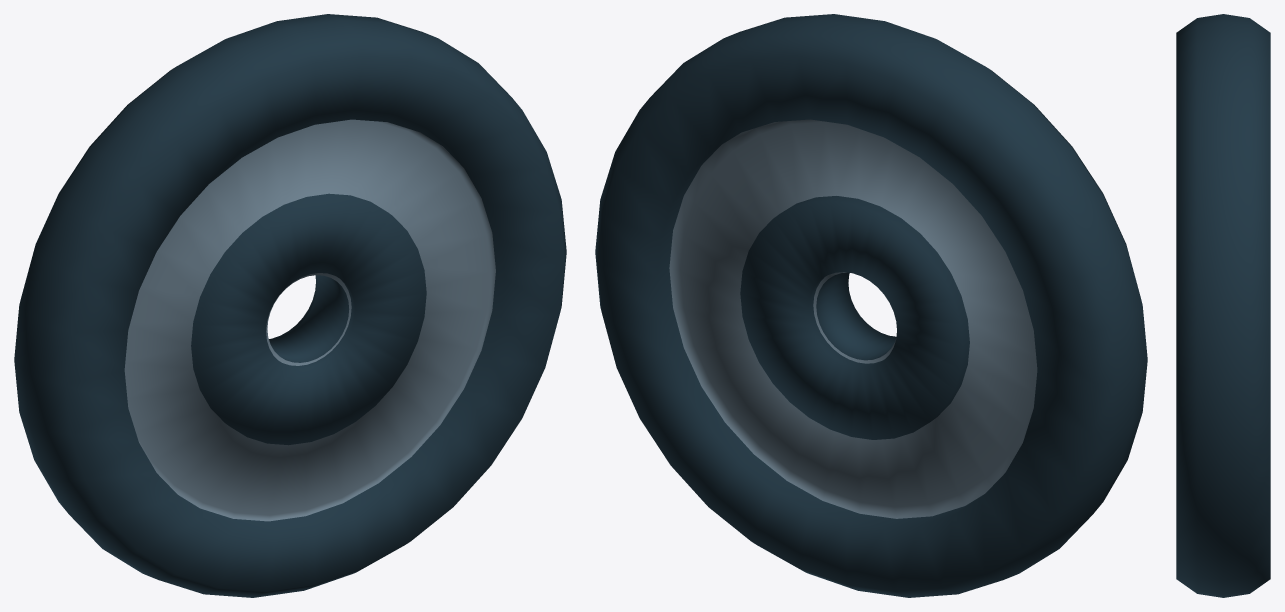
The model's file is barbell.fbx.
3 renders of one model, left to right at view 1: azimuth 30°, elevation 25°; view 2: azimuth 150°, elevation 25°; view 3: azimuth 270°, elevation 25°, orthographic. The views are drawn at different scales.
Parts seen in each view (by area): view 1: barbell; view 2: barbell; view 3: barbell.
Boxes of the visible parts, x1,y1,x2,y2 form: barbell: (14, 14, 566, 597); barbell: (595, 14, 1147, 597); barbell: (1176, 14, 1270, 597).
Size of the model in its own units: 263 by 263 by 42.38.
